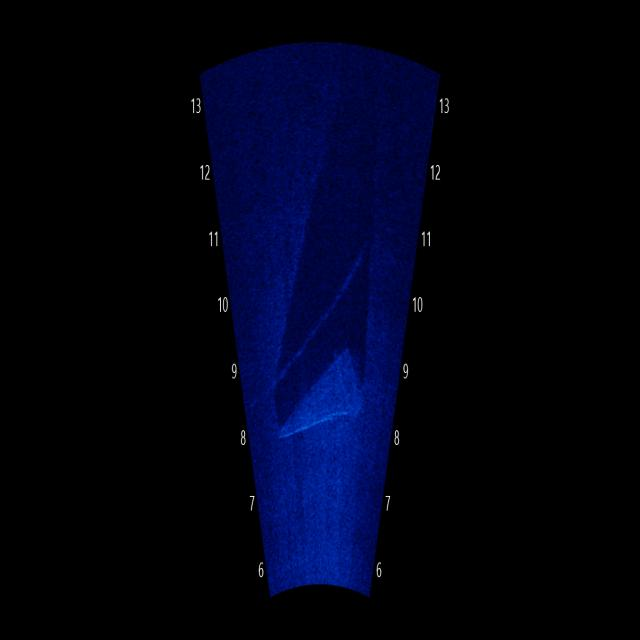triangle: (276, 336, 369, 454)
